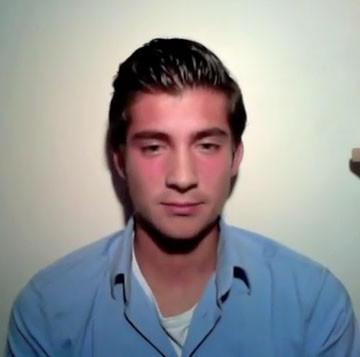Drunk: (133, 94, 229, 239)
